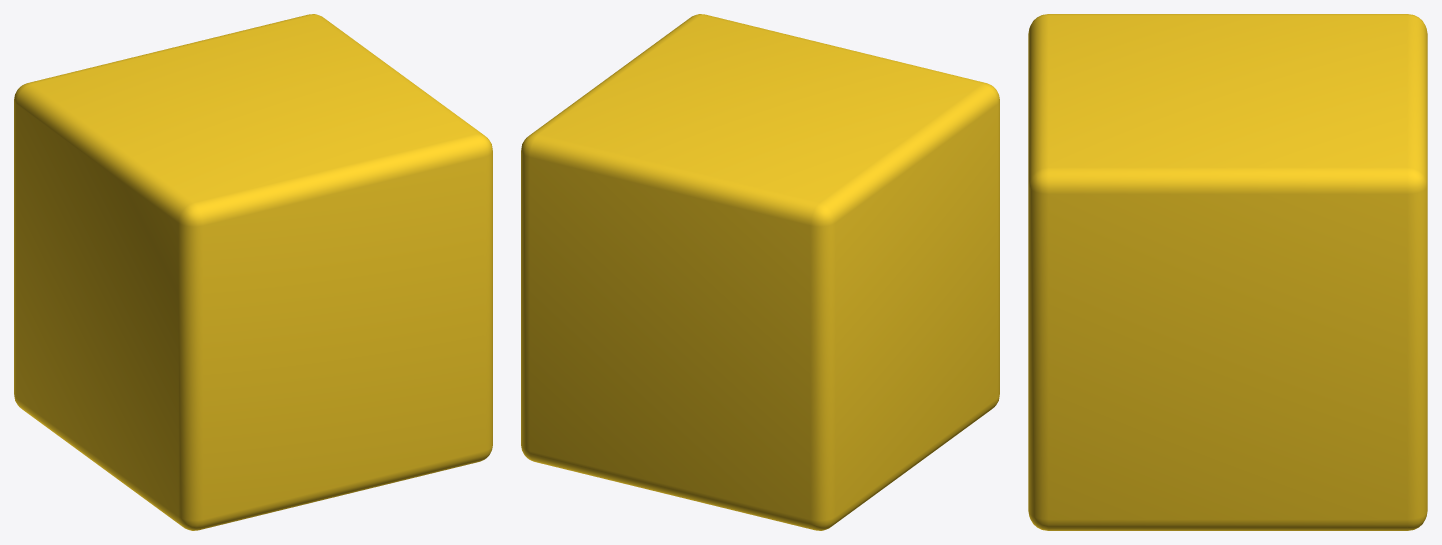
Rendered from Block.gltf.
3 views of the same model, side by side, from view 1: azimuth 30°, elevation 25°; view 2: azimuth 150°, elevation 25°; view 3: azimuth 270°, elevation 25° (orthographic). The views are drawn at different scales.
Visible parts, largest first — view 1: Object_2; view 2: Object_2; view 3: Object_2.
Part boxes in pixels (bbox=[...]): Object_2: bbox=[14, 14, 492, 530]; Object_2: bbox=[521, 14, 999, 530]; Object_2: bbox=[1028, 14, 1427, 530].
Size of the model in its own units: 0.9957 by 0.9957 by 0.9957.
